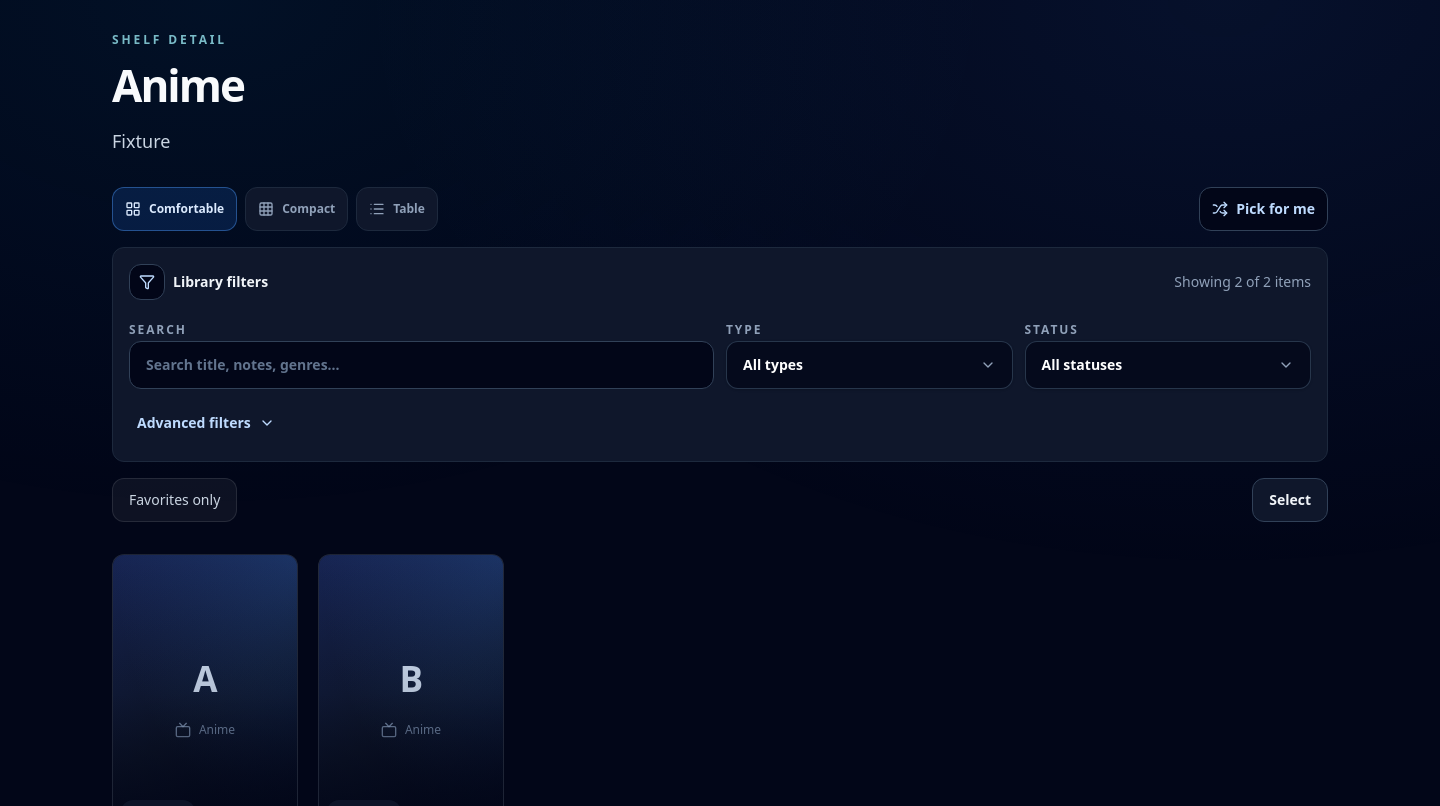
Test: bulk delete client recovery › focuses Cancel and returns focus to Delete selected without deleting anything
Step 1. Click the button "Select" → (1290, 500), box [1252,478,1328,522]
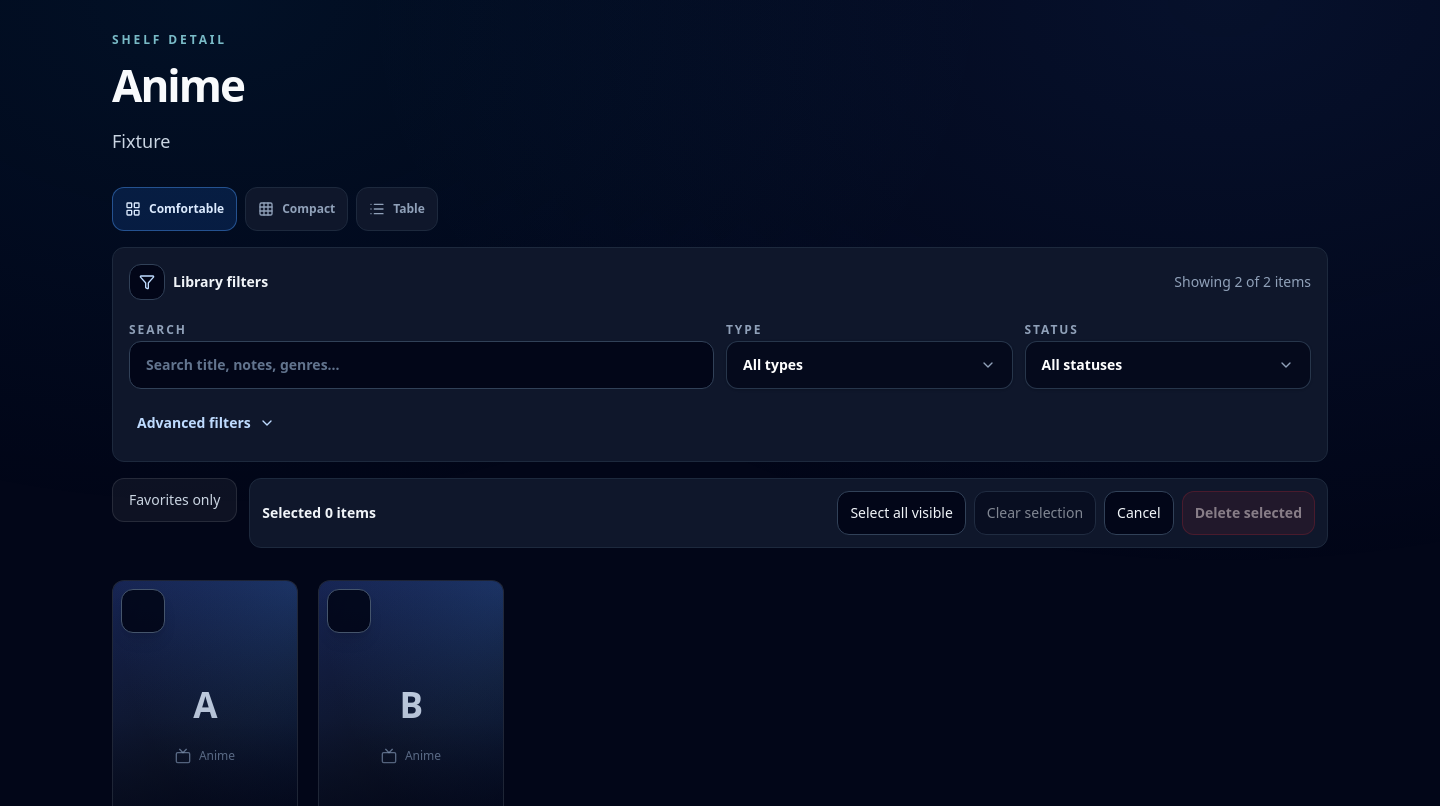
Step 2. Click the button "Select all visible" → (902, 513), box [837,491,966,535]
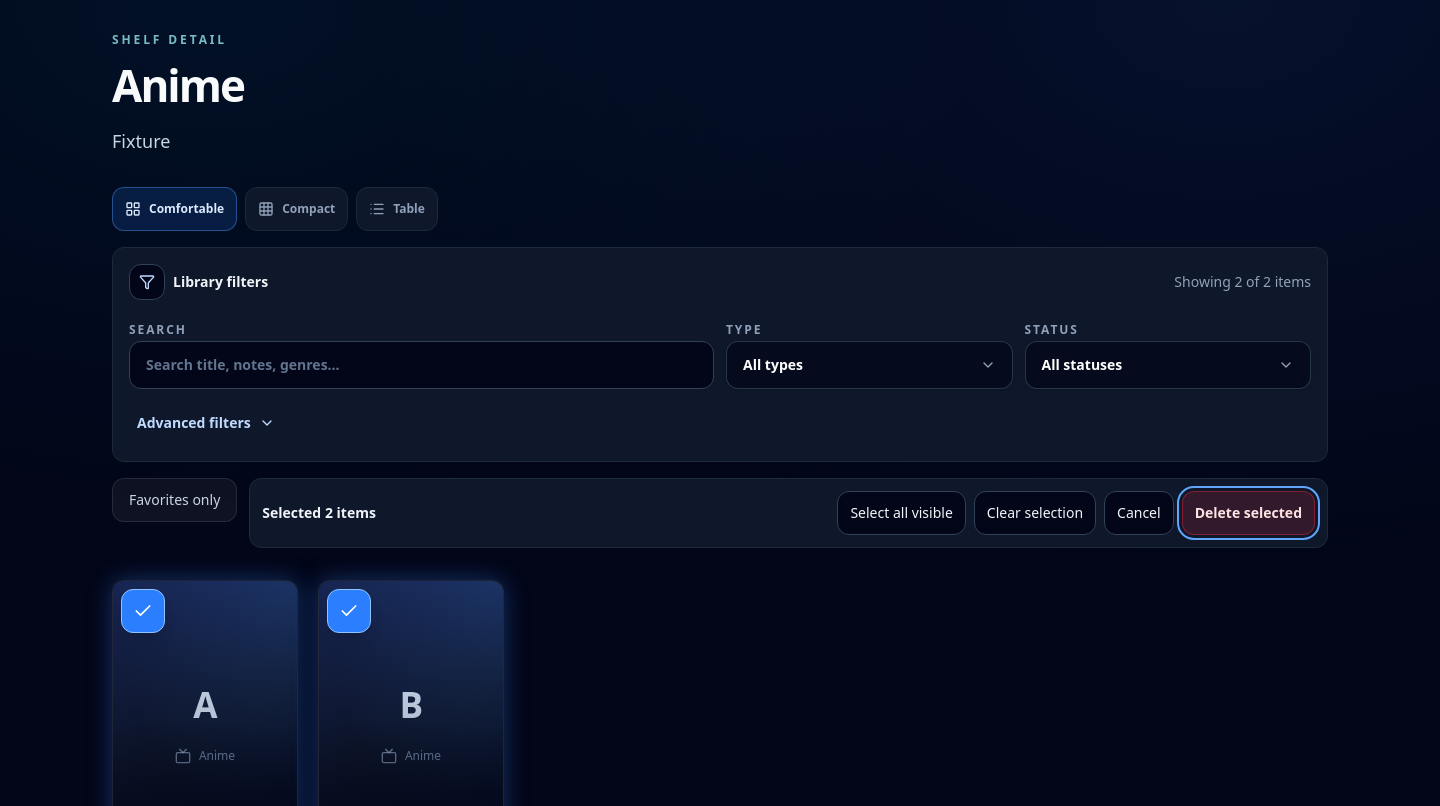
Step 3. Click the button "Delete selected" → (1248, 513), box [1182,491,1315,535]
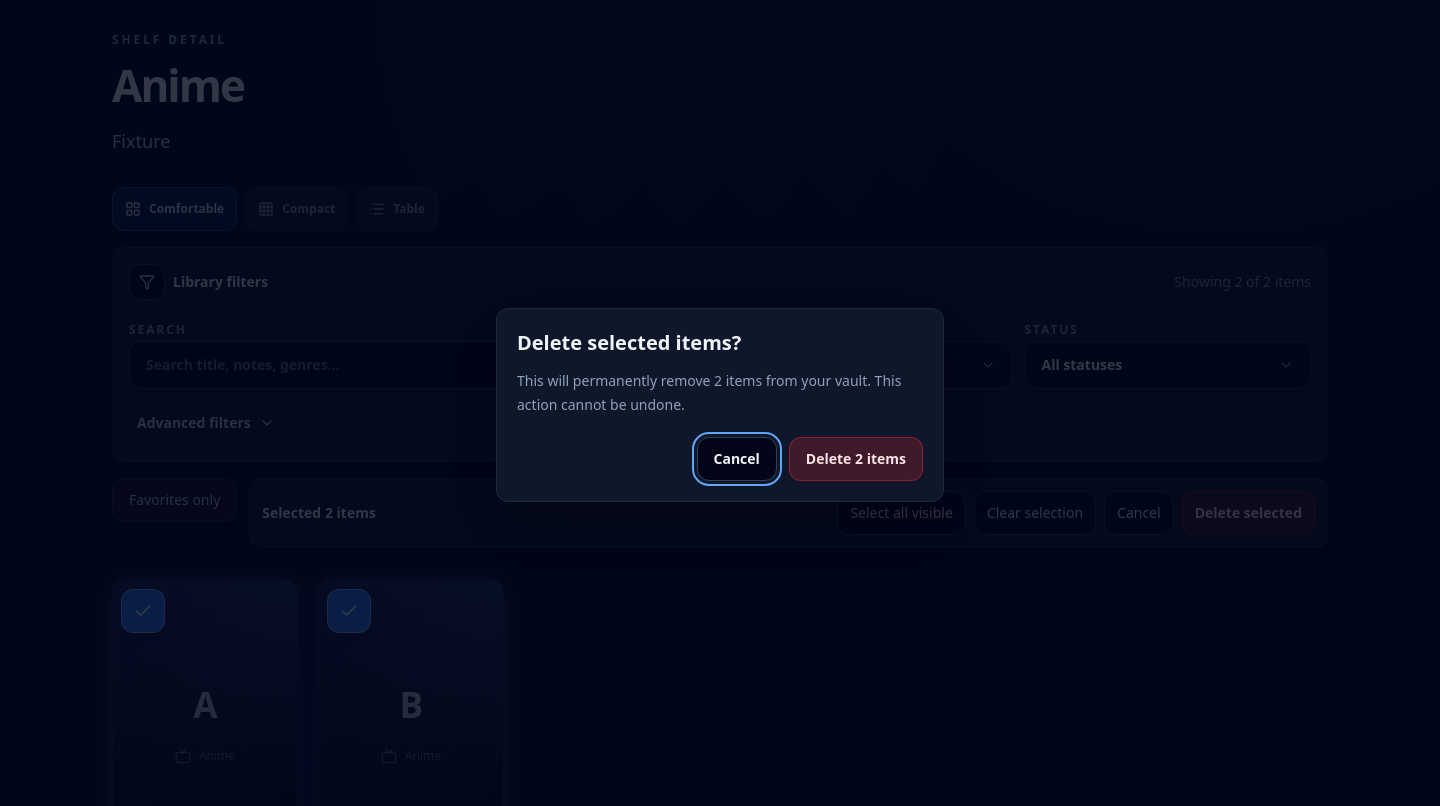
Step 4. Click the button "Cancel" → (737, 459), box [696,437,777,481]
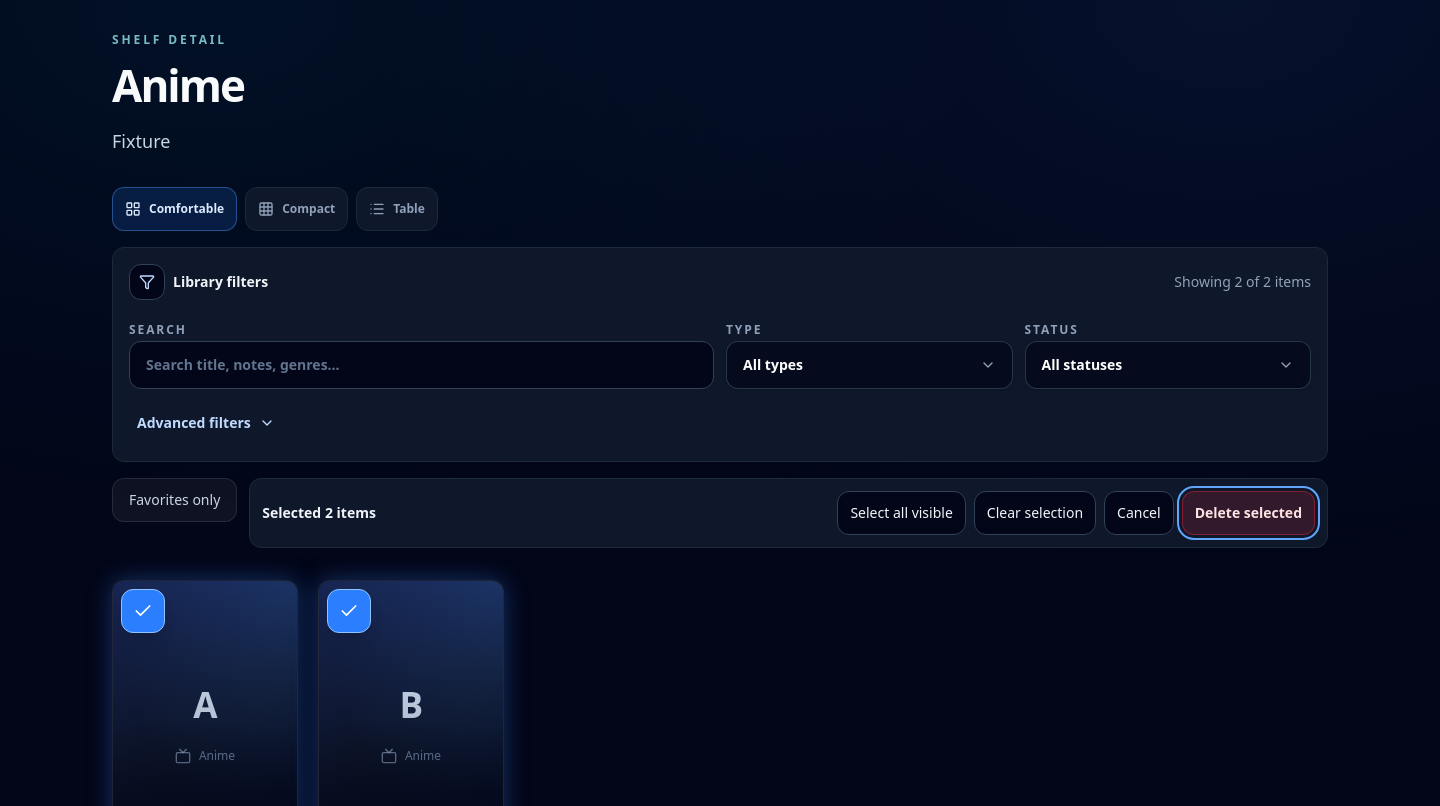
Expected: the dialog is gone
